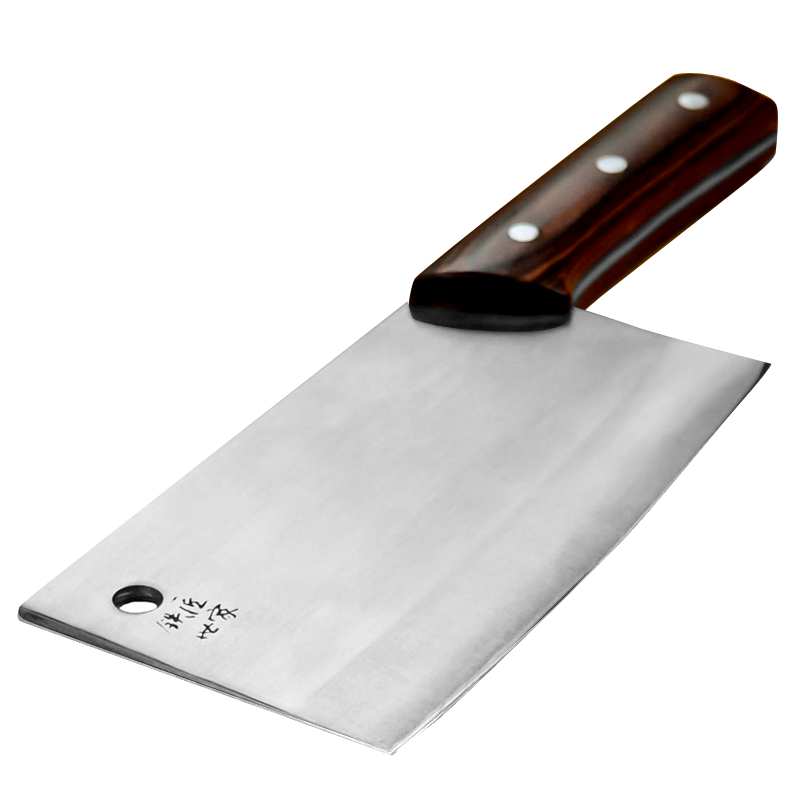knief: (33, 35, 769, 748)
